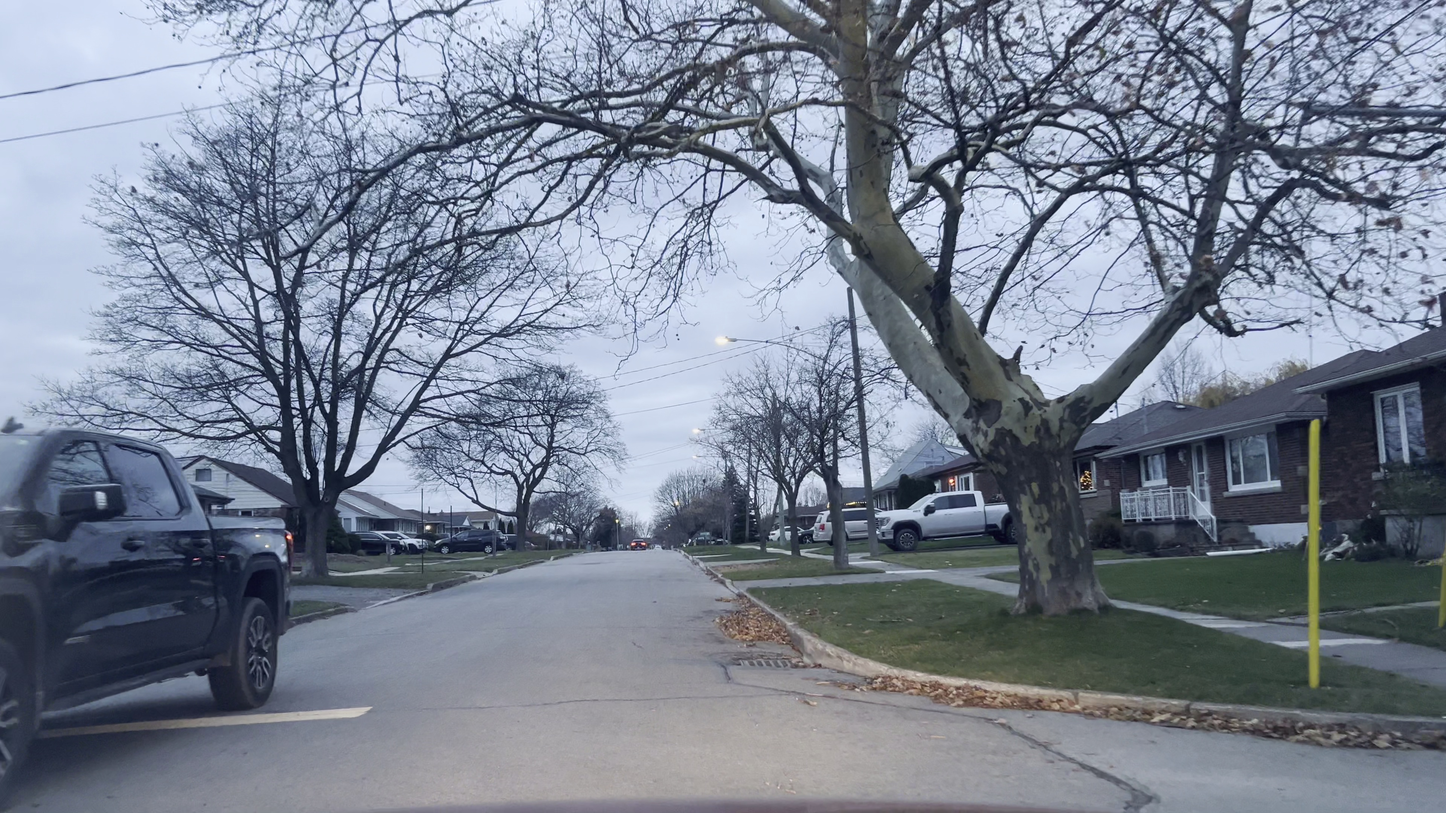cracks: (996, 722, 1166, 801), (701, 665, 768, 701)
